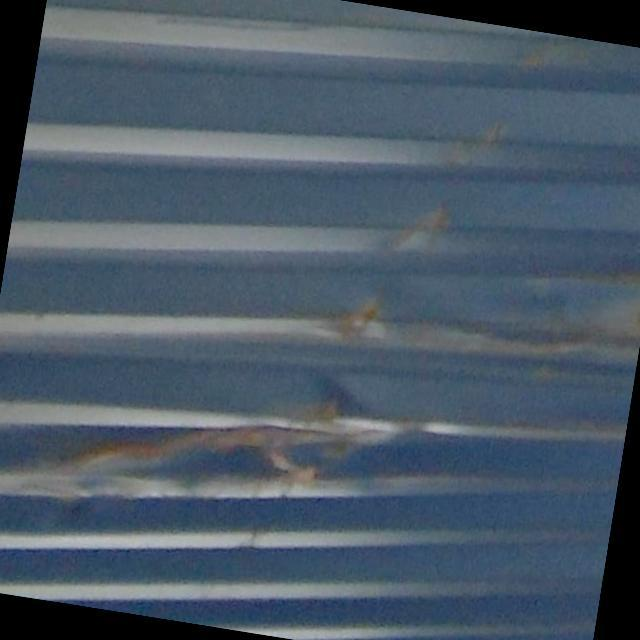rust: (82, 352, 386, 543)
